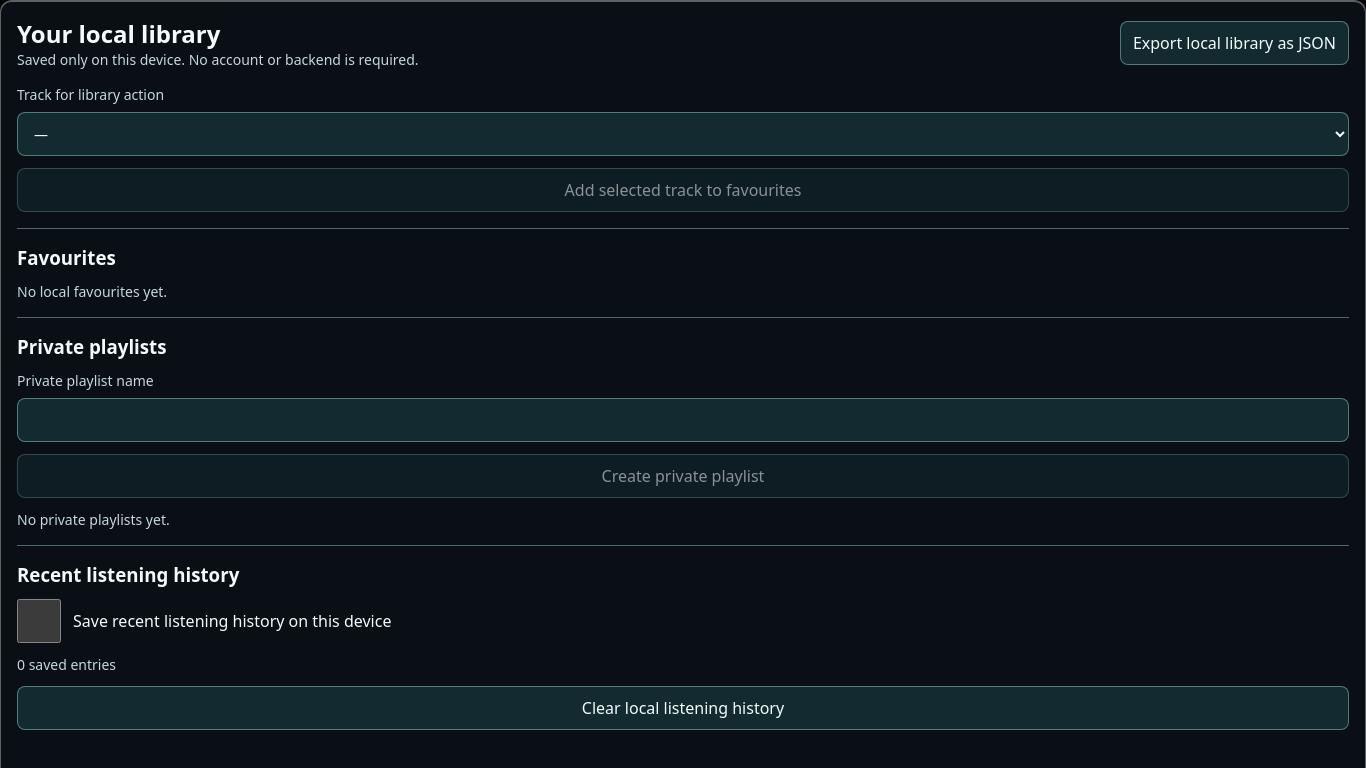
Test: anonymous local library panel › revokes an export URL and reports failure even when the synthetic download click throws
What coordinates should you click on to do the following:
click the button with aria-label "Export local library as JSON"
I would click on:
 (1234, 43)
Its box is 1120,21 -> 1349,65.
(page scrolled)
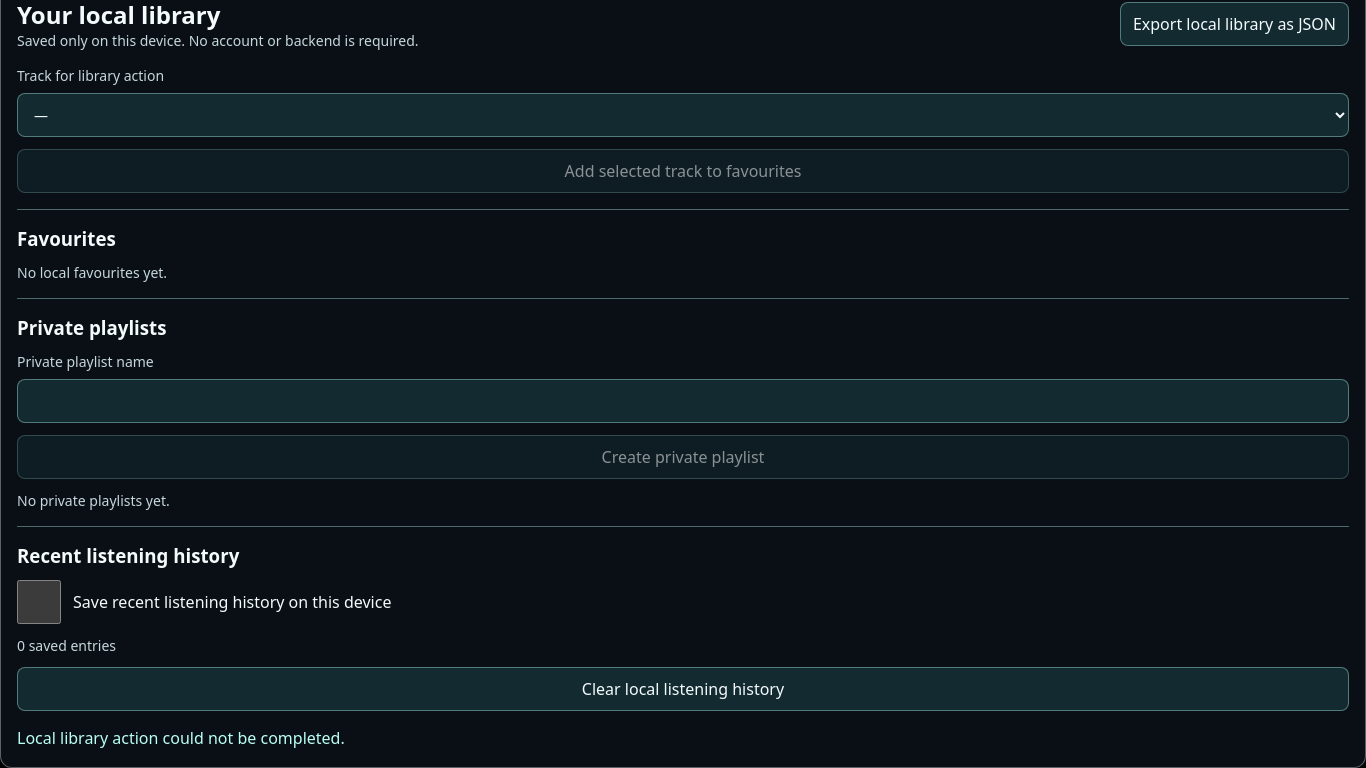
Expected: the message "Local library action could not be completed." is shown, 17,727 -> 345,749
